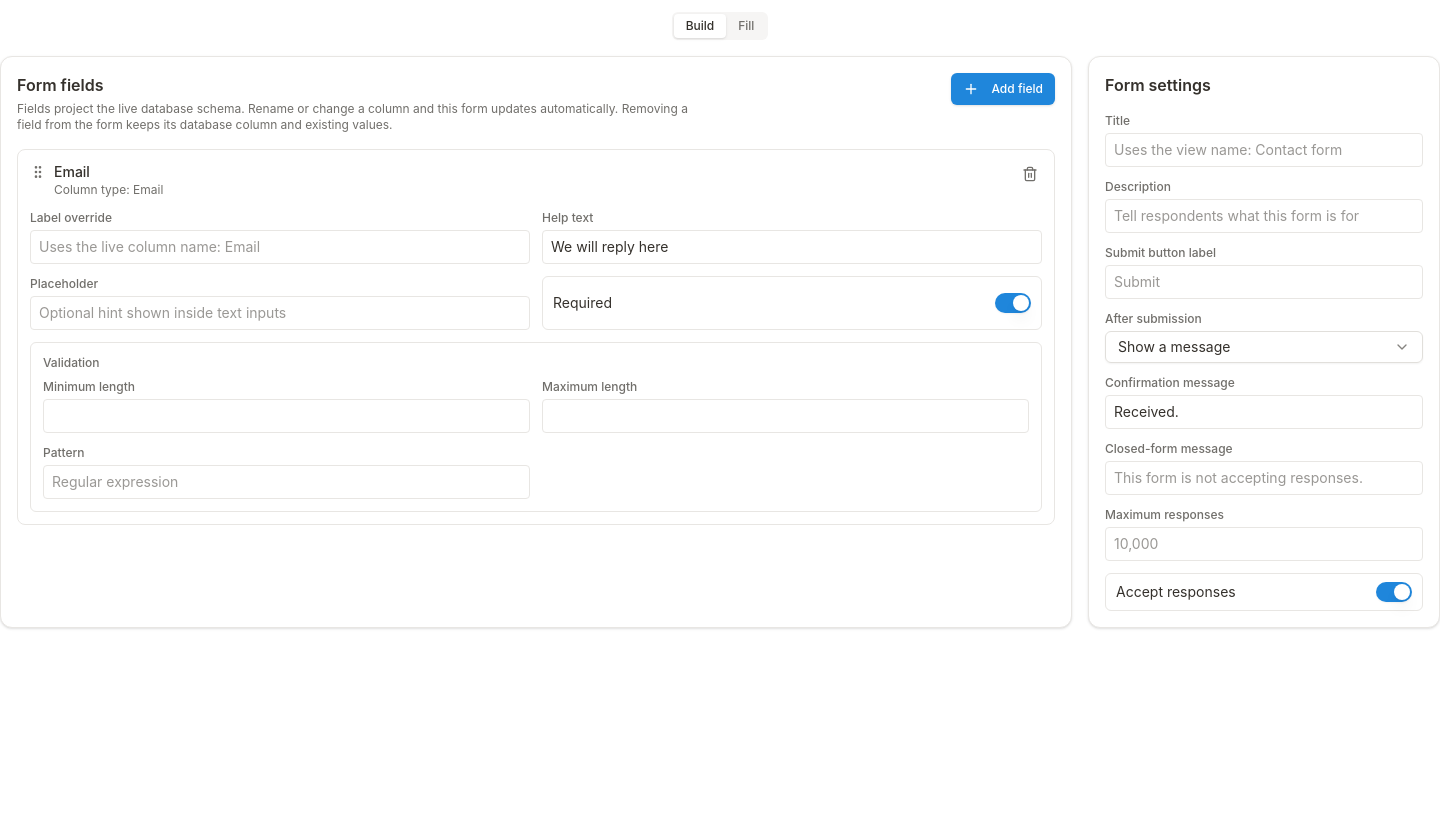
Test: database form fill renderer › blocks invalid submissions with SDK validation
Click the button "Fill" at (746, 26), box [726, 14, 766, 38]
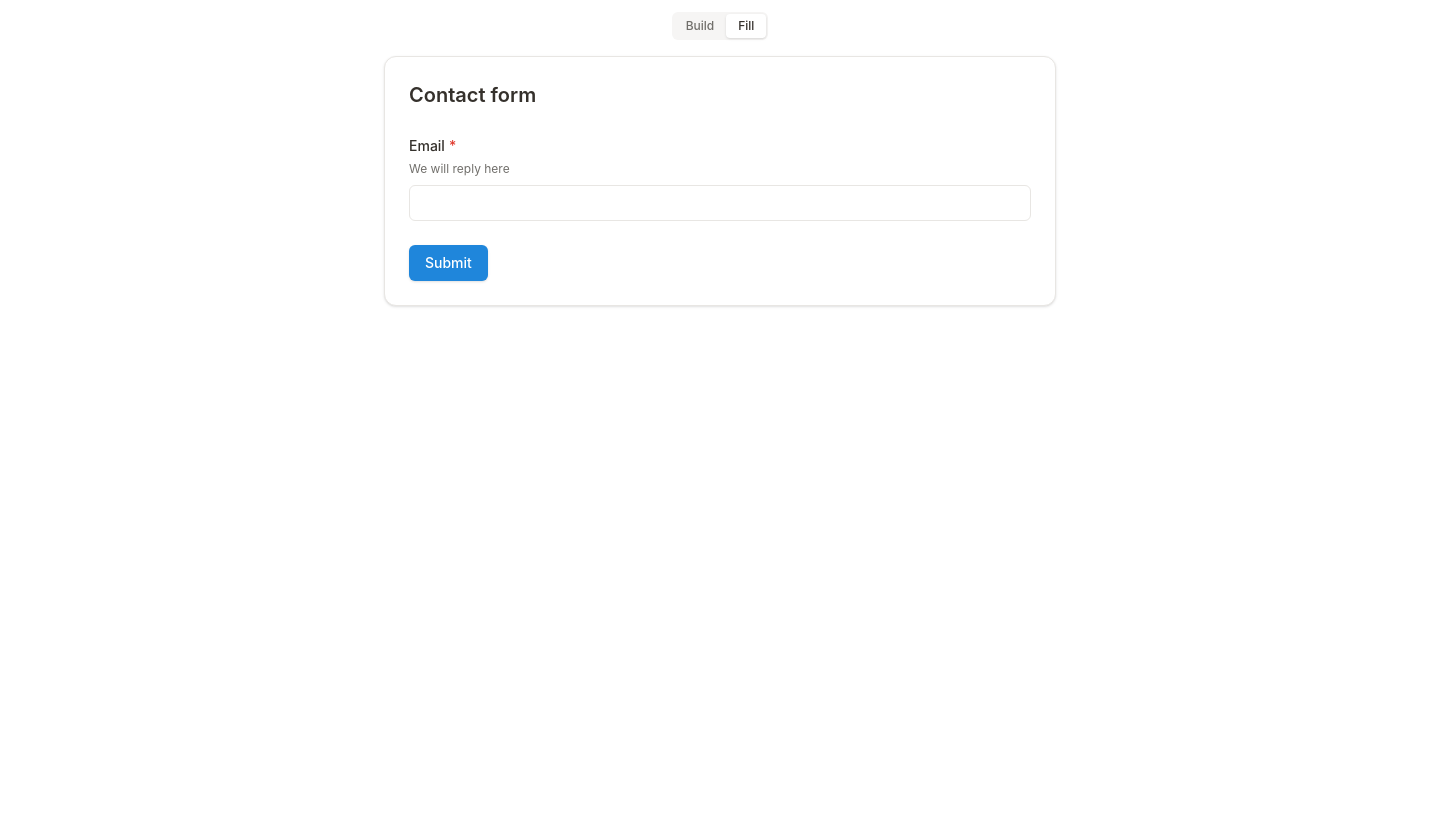
Type "not-an-email" into the field named "Email (required)" at (720, 200), box [410, 186, 1030, 214]
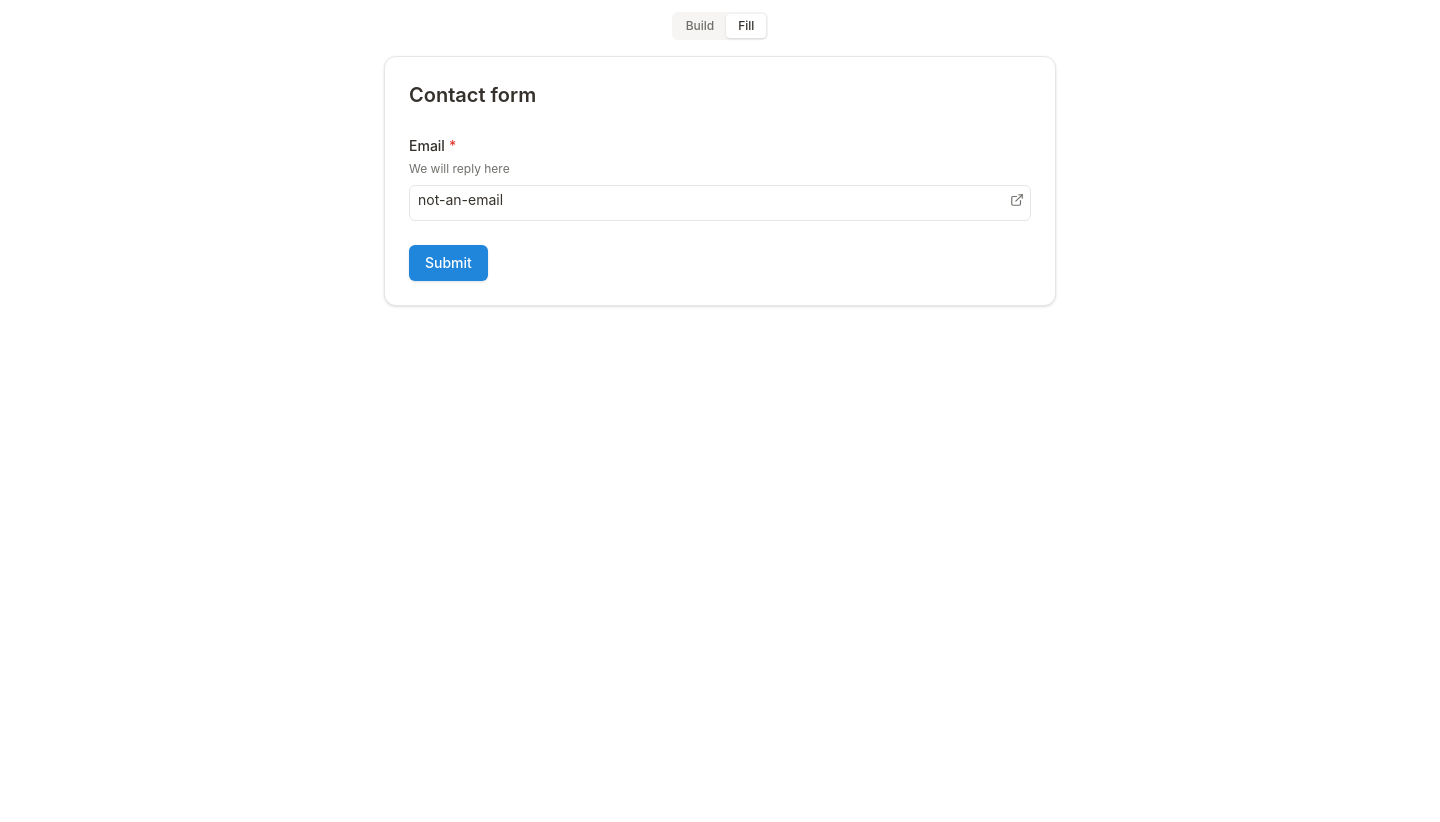
Click the button "Submit" at (448, 263), box [409, 245, 488, 281]
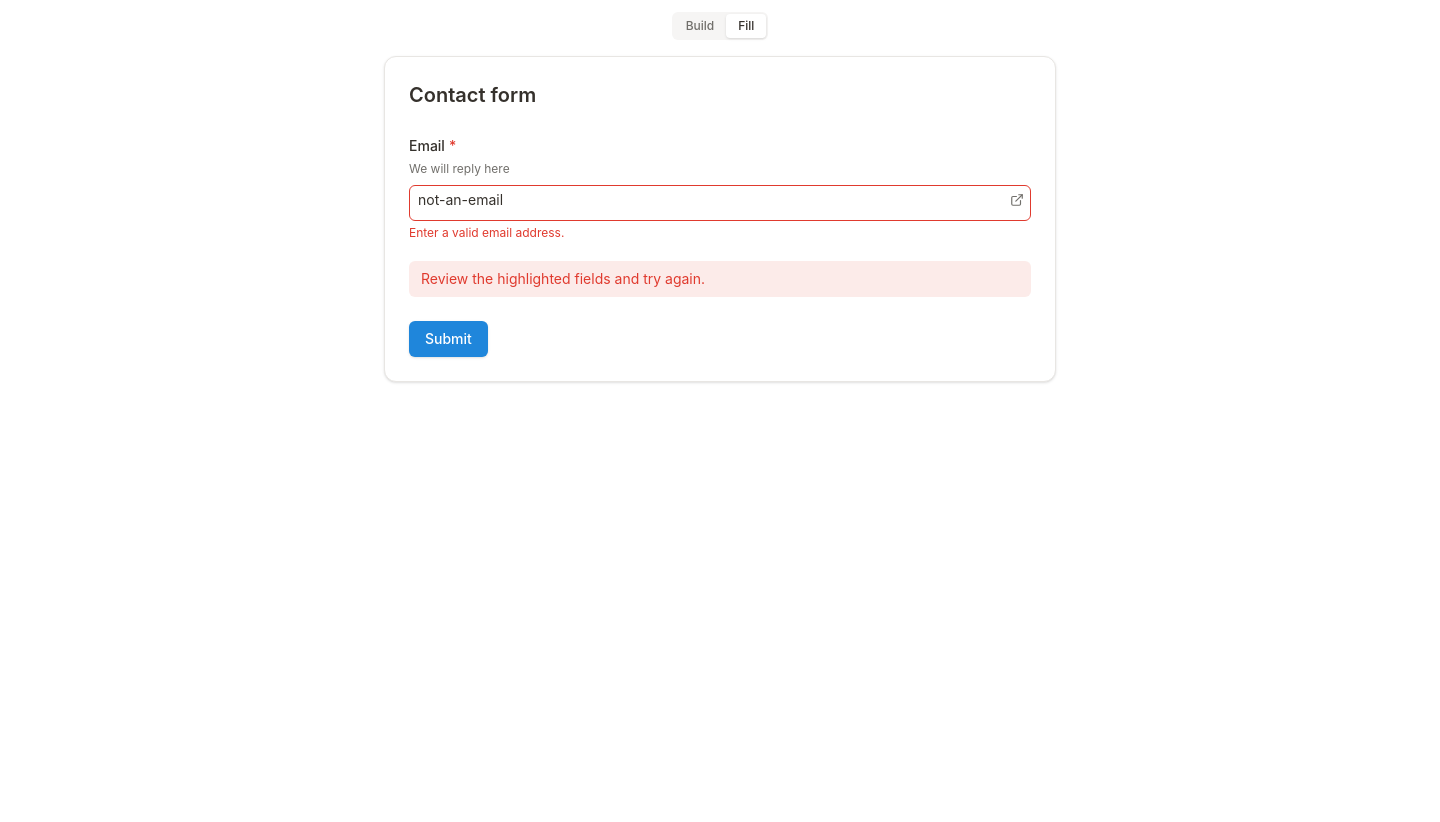
Now the text "Enter a valid email address." is shown, box [409, 225, 564, 240]
